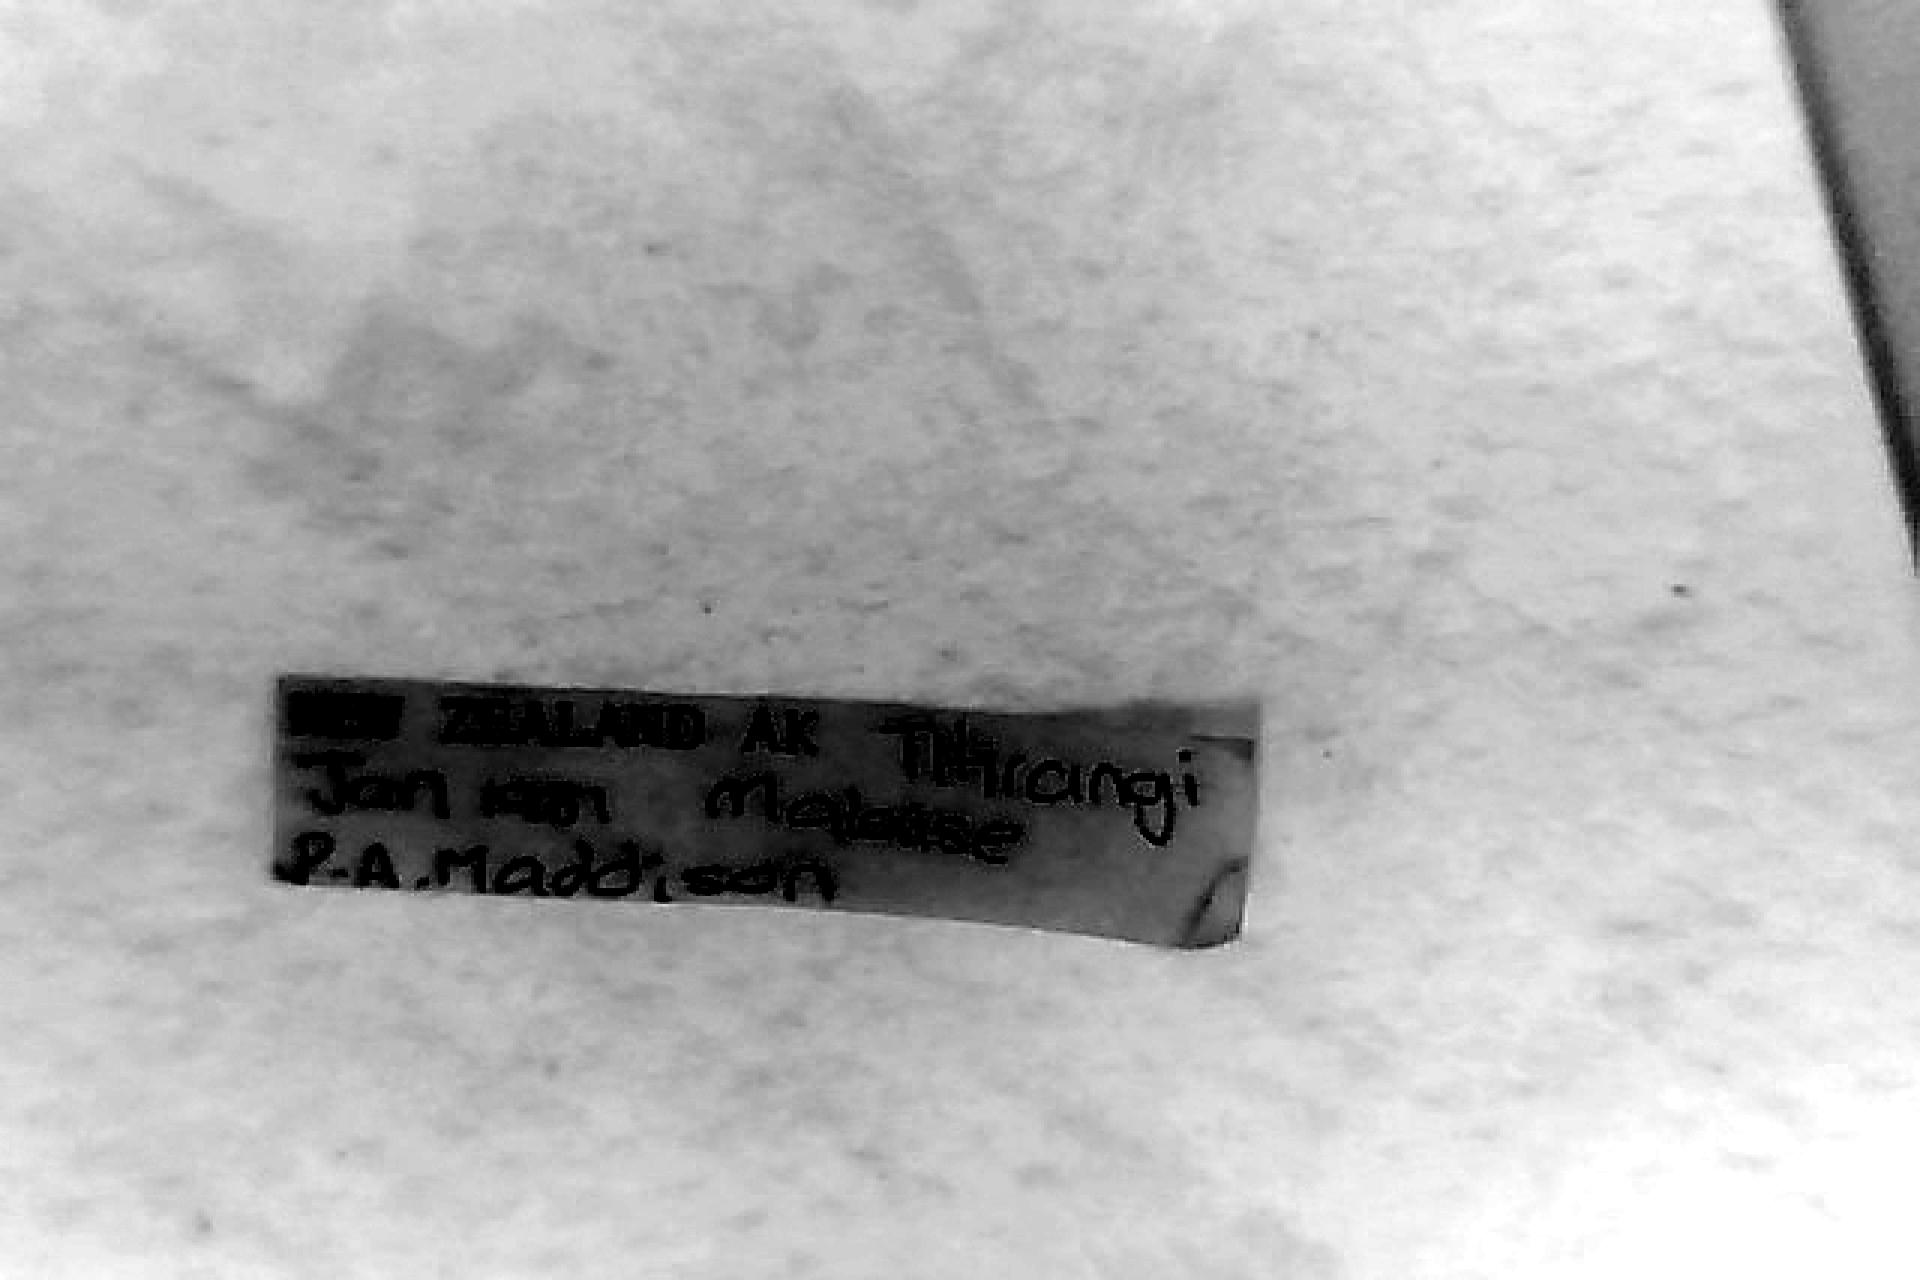mixed_label: (274, 682, 1256, 945)
